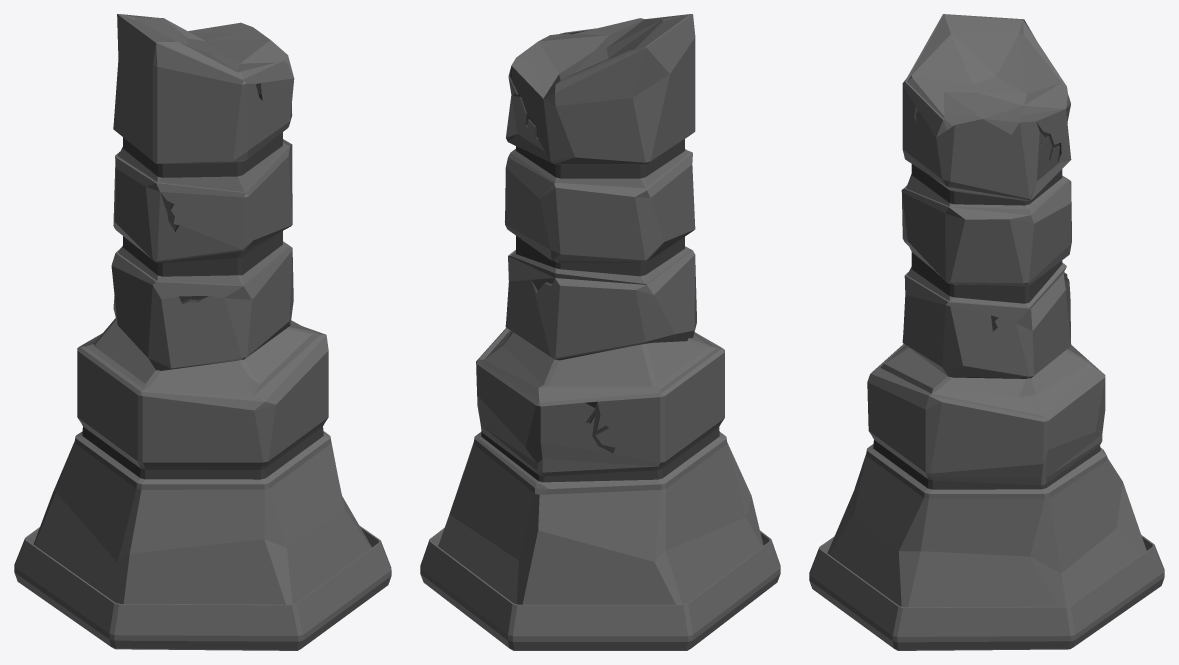
Rendered from Säule_001.fbx.
The picture shows the model from 3 angles, left to right: view 1: azimuth 30°, elevation 25°; view 2: azimuth 150°, elevation 25°; view 3: azimuth 270°, elevation 25°; orthographic projection. The views are drawn at different scales.
Parts seen in each view (by area): view 1: Säule_001; view 2: Säule_001; view 3: Säule_001.
Boxes of the visible parts, left/top/right/bottom form: Säule_001: left=14, top=14, right=391, bottom=650; Säule_001: left=420, top=14, right=780, bottom=650; Säule_001: left=809, top=14, right=1164, bottom=650.
Bounding box in the file's own units: 256 × 499 × 297.
